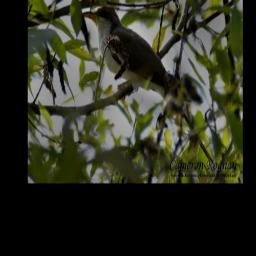Cuckoo: (81, 5, 213, 164)
